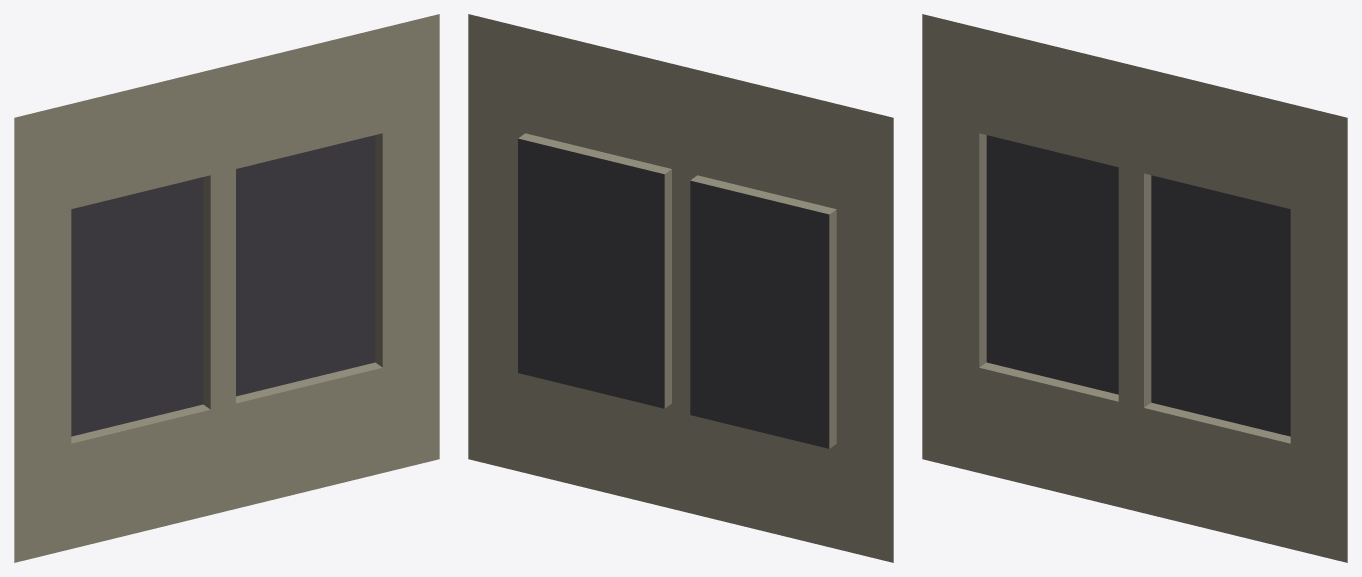
Rendered from S_b_window_01.fbx.
3 renders of one model, left to right at view 1: azimuth 30°, elevation 25°; view 2: azimuth 150°, elevation 25°; view 3: azimuth 330°, elevation 25°, orthographic.
Visible parts, largest first — view 1: b_window_01; view 2: b_window_01; view 3: b_window_01.
Part boxes in pixels (x1,y1,x2,y2): b_window_01: (14, 14, 439, 562); b_window_01: (468, 14, 893, 562); b_window_01: (922, 14, 1347, 562).
Size of the model in its own units: 400 by 400 by 11.76.
